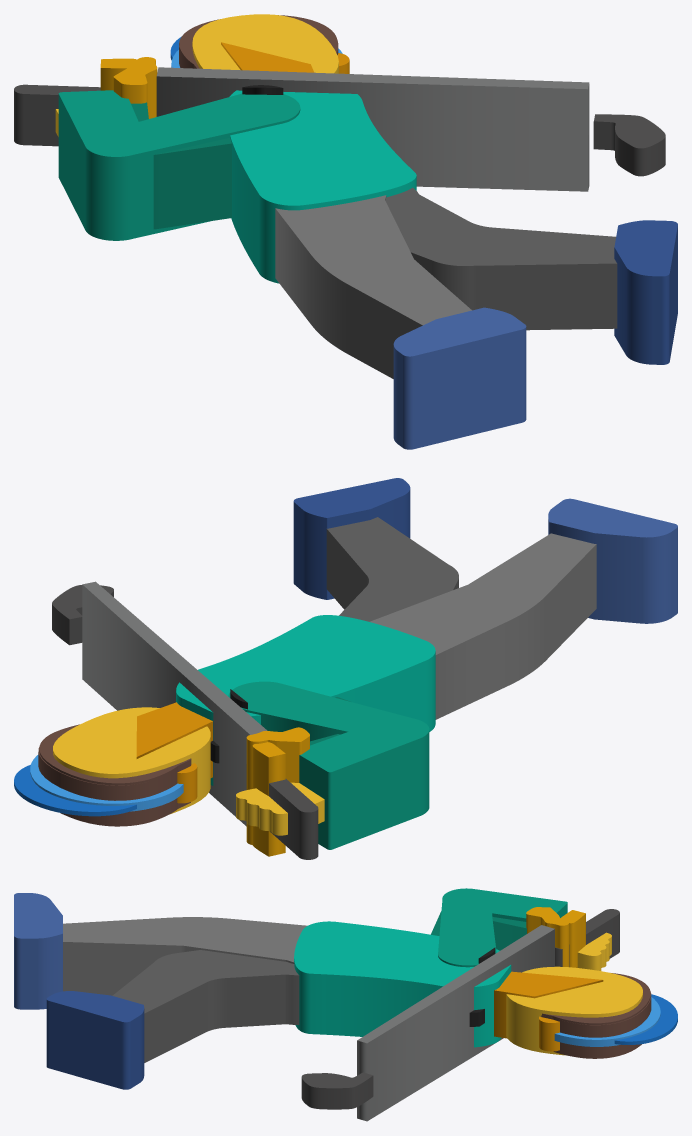
Rendered from emoji_u1f3cc_200d_2642.glb.
The picture shows the model from 3 angles, top to bottom: view 1: azimuth 30°, elevation 25°; view 2: azimuth 150°, elevation 25°; view 3: azimuth 270°, elevation 25°; orthographic projection. The views are drawn at different scales.
Parts seen in each view (by area): view 1: emoji_u1f3cc_200d_2642; view 2: emoji_u1f3cc_200d_2642; view 3: emoji_u1f3cc_200d_2642.
Part boxes in pixels (x1,y1,x2,y2): emoji_u1f3cc_200d_2642: (14,14,677,449); emoji_u1f3cc_200d_2642: (14,478,677,859); emoji_u1f3cc_200d_2642: (14,888,677,1121).
Size of the model in its own units: 0.0216 by 0.0048 by 0.0339.
